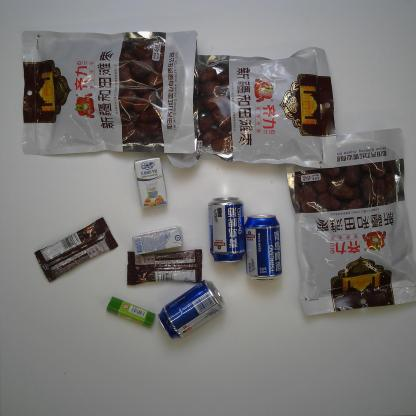Alcohol: (156, 278, 227, 342), (206, 195, 248, 264), (242, 213, 284, 281)
Chocolate: (34, 215, 120, 283), (125, 247, 204, 286)
Dried Food: (283, 125, 416, 319), (20, 27, 200, 157), (165, 46, 340, 171)
Milk: (134, 154, 171, 210), (130, 224, 184, 256)
Stationery: (104, 295, 157, 329)
